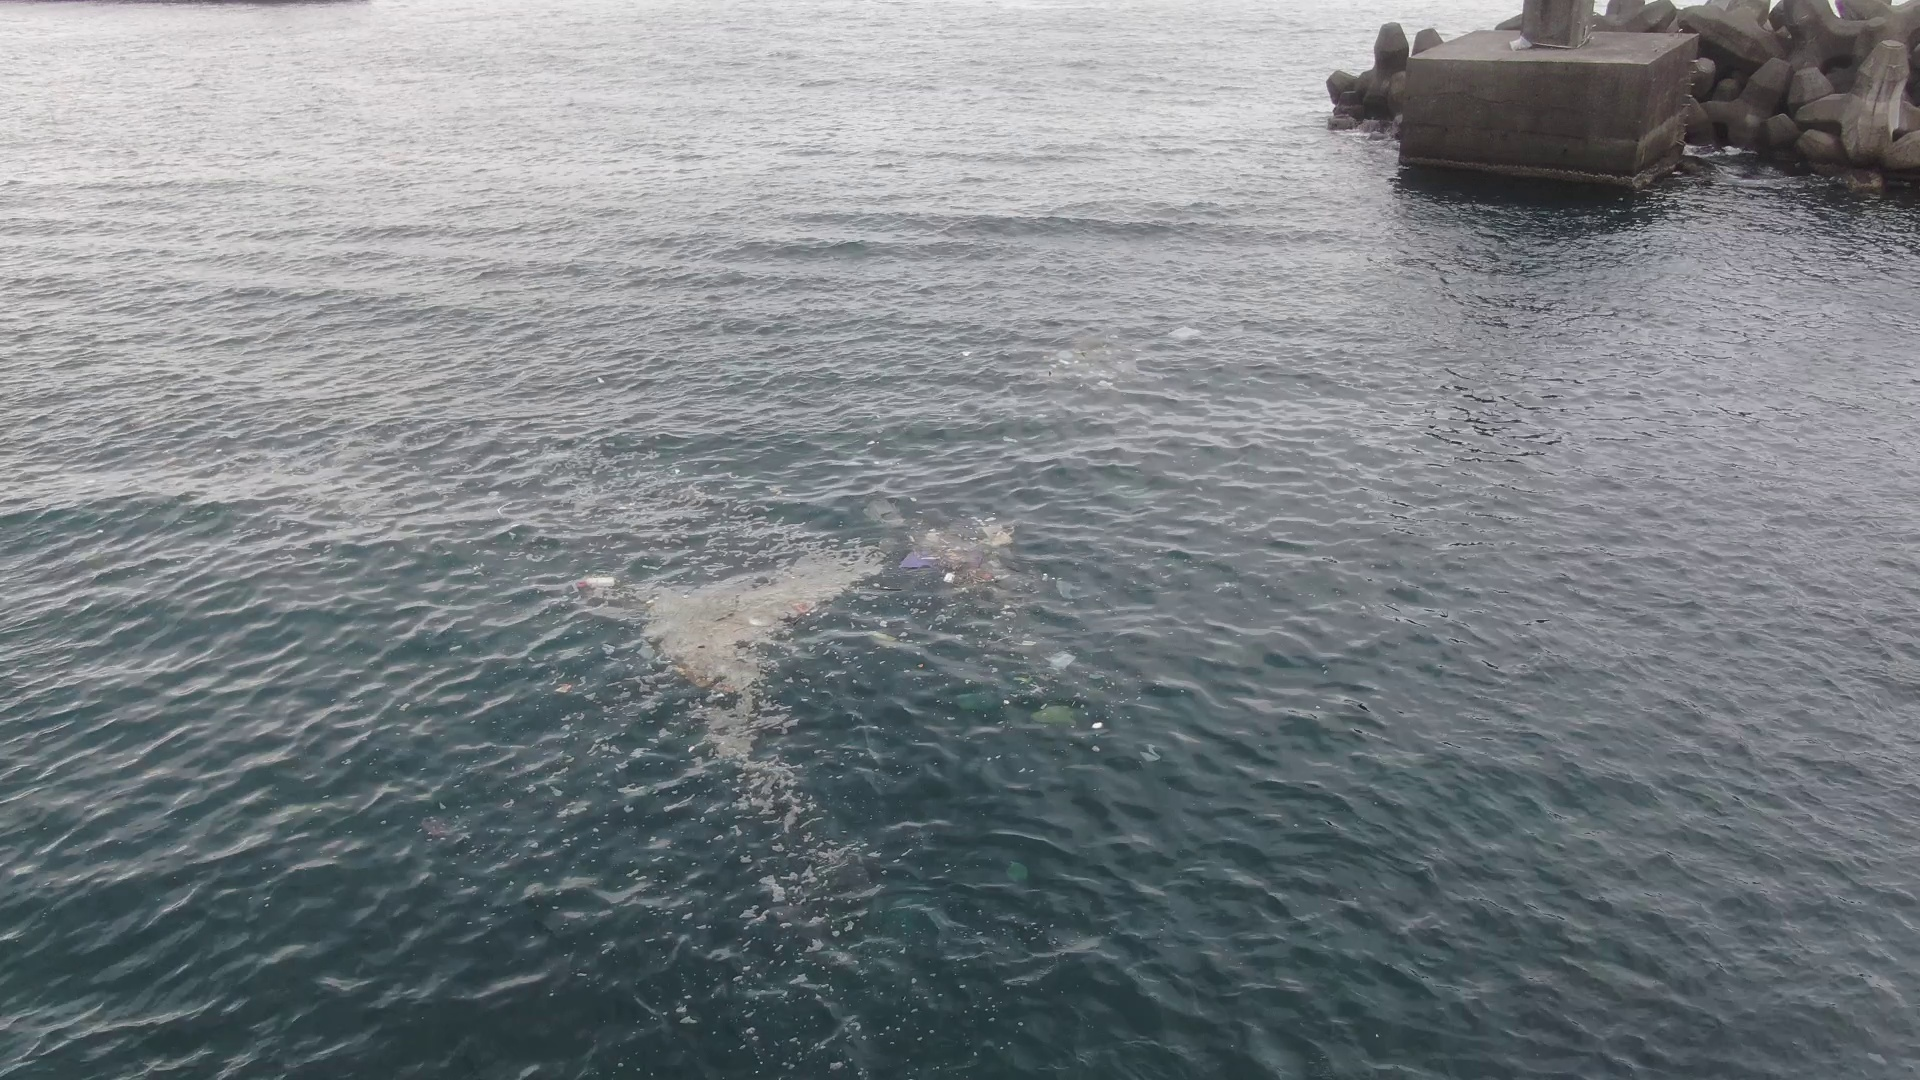garbage: (574, 513, 1114, 742), (1048, 324, 1143, 390), (1170, 323, 1203, 342)
